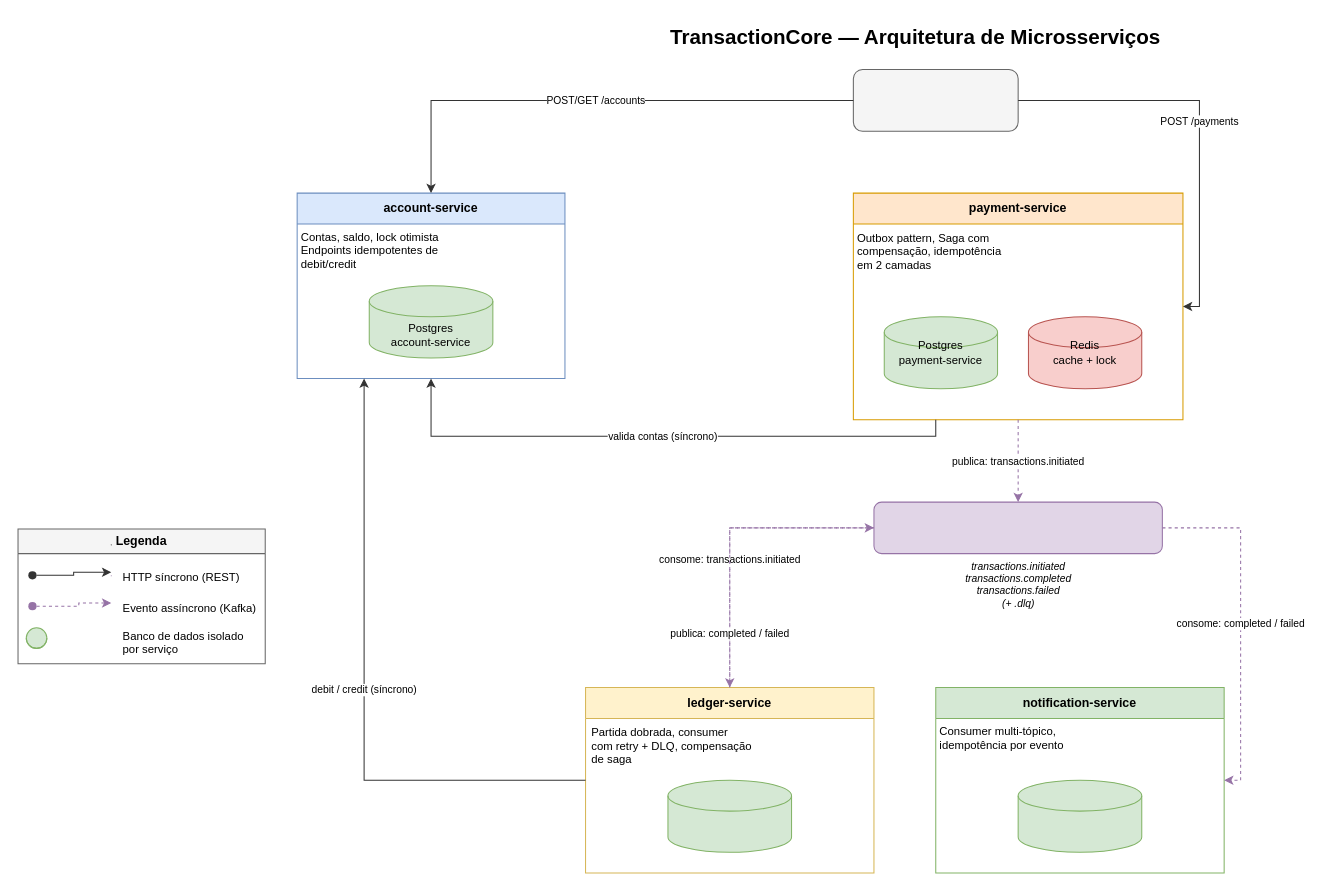
The diagram is 1323 pixels wide and 891 high, and some of its shapes have lost their labels. The shapes that lost their labels are listed below. From the top down, each one's centre as x and y in pixels, then its label:
At point 935,99: "Cliente (Frontend / App)".
At point 1017,527: "Apache Kafka".
At point 729,815: "Postgres ledger-service".
At point 1079,815: "Postgres notification-service".
